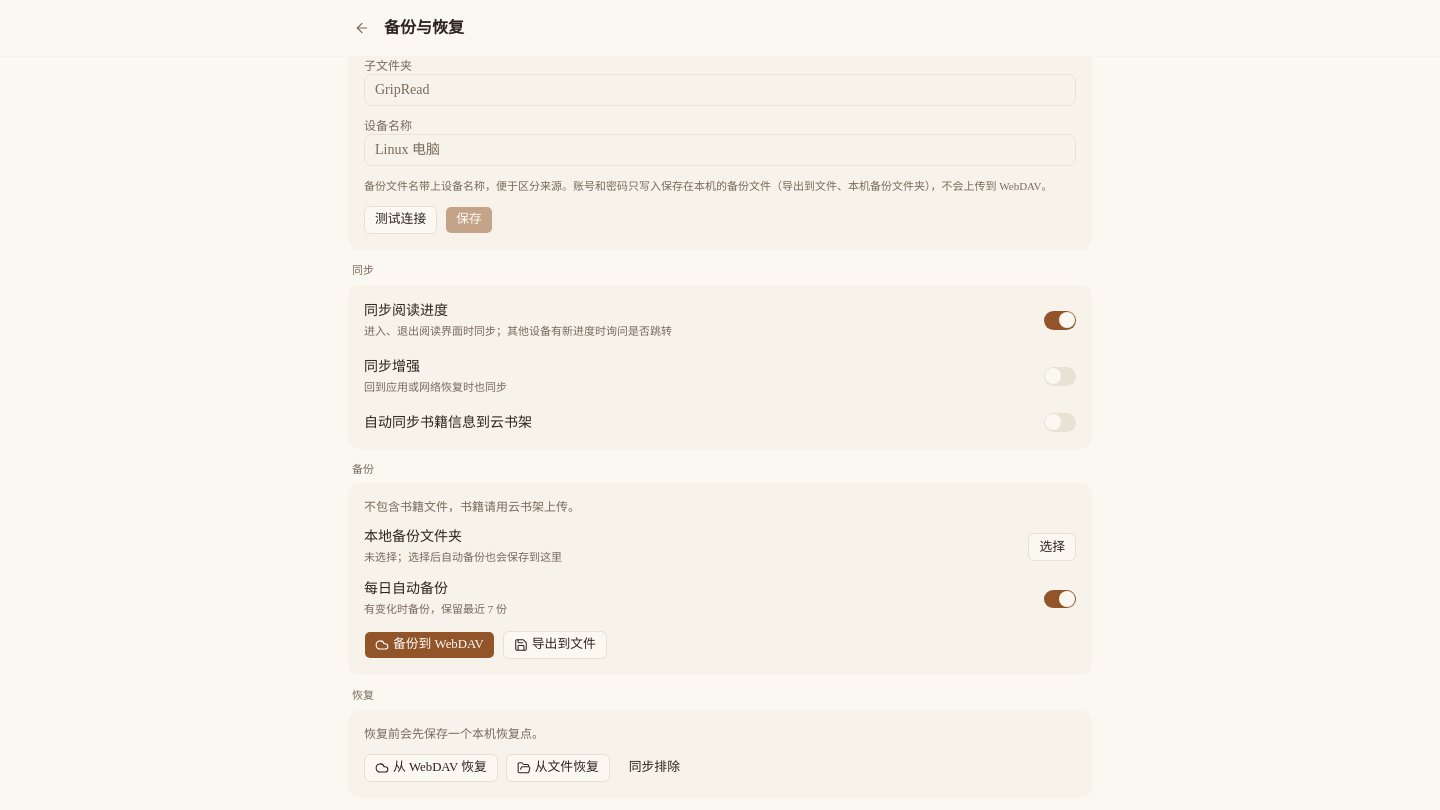
it: backup and the cloud bookshelf › previews a WebDAV backup before restoring it and reports the result
The image size is (1440, 810).
(page scrolled)
Step 1. Click the button "从 WebDAV 恢复" → [431, 768], box [364,754,498,782]
(page scrolled)
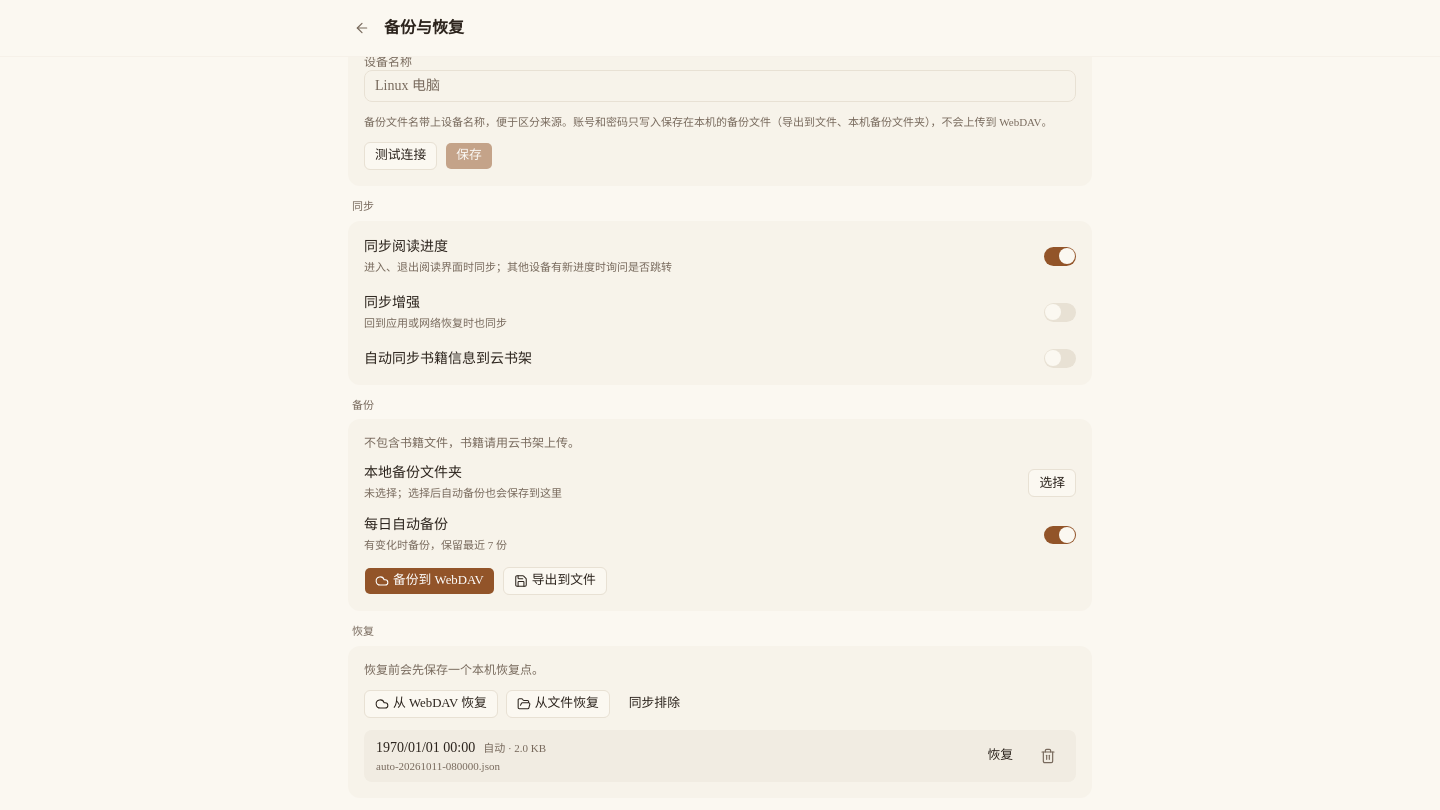
Step 2. Click the button "恢复" → [1000, 756], box [976,742,1024,770]
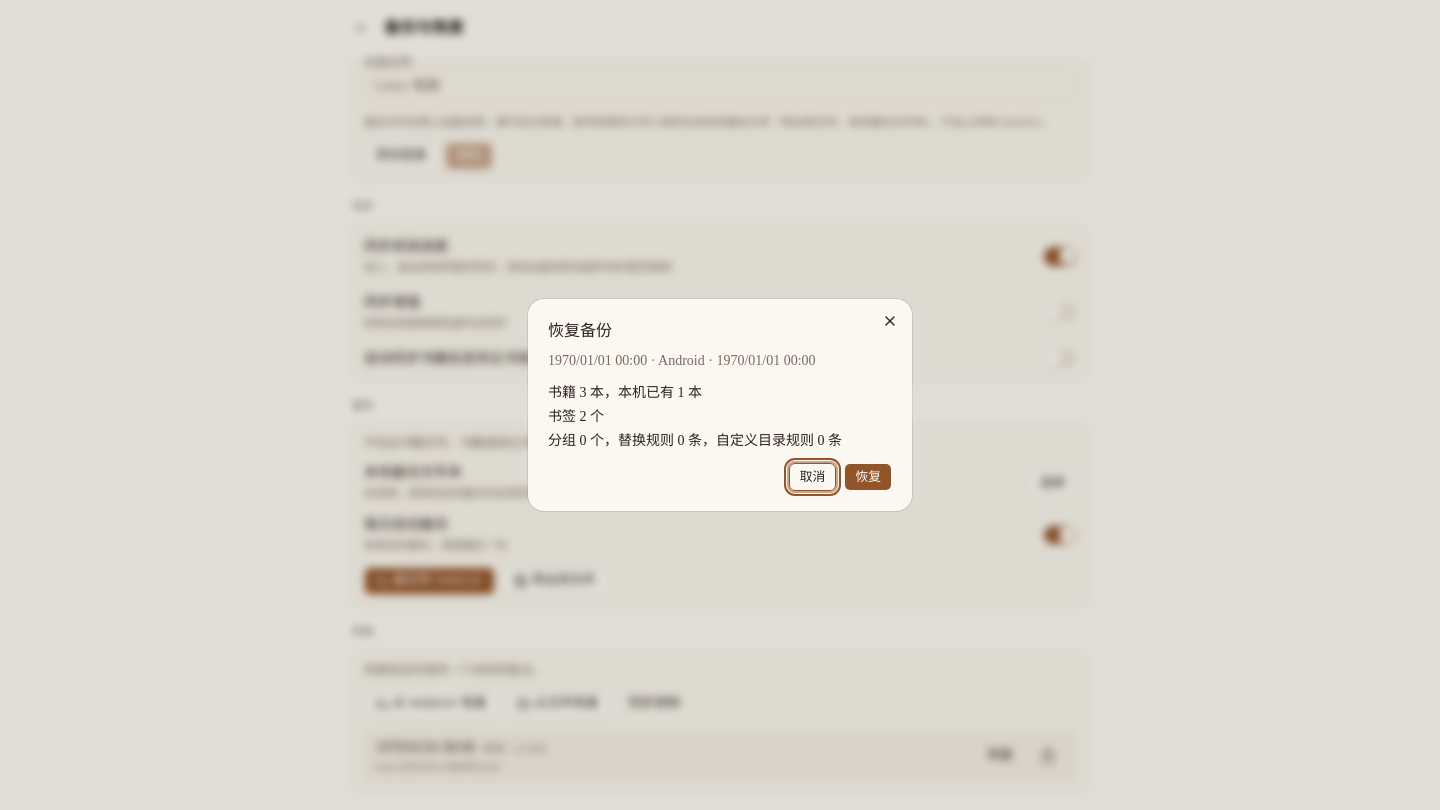
Result: the list item "书籍 3 本，本机已有 1 本" is shown at [548,385,702,400]
Step 3. Click the button "恢复" → [868, 477], box [844,463,892,491]
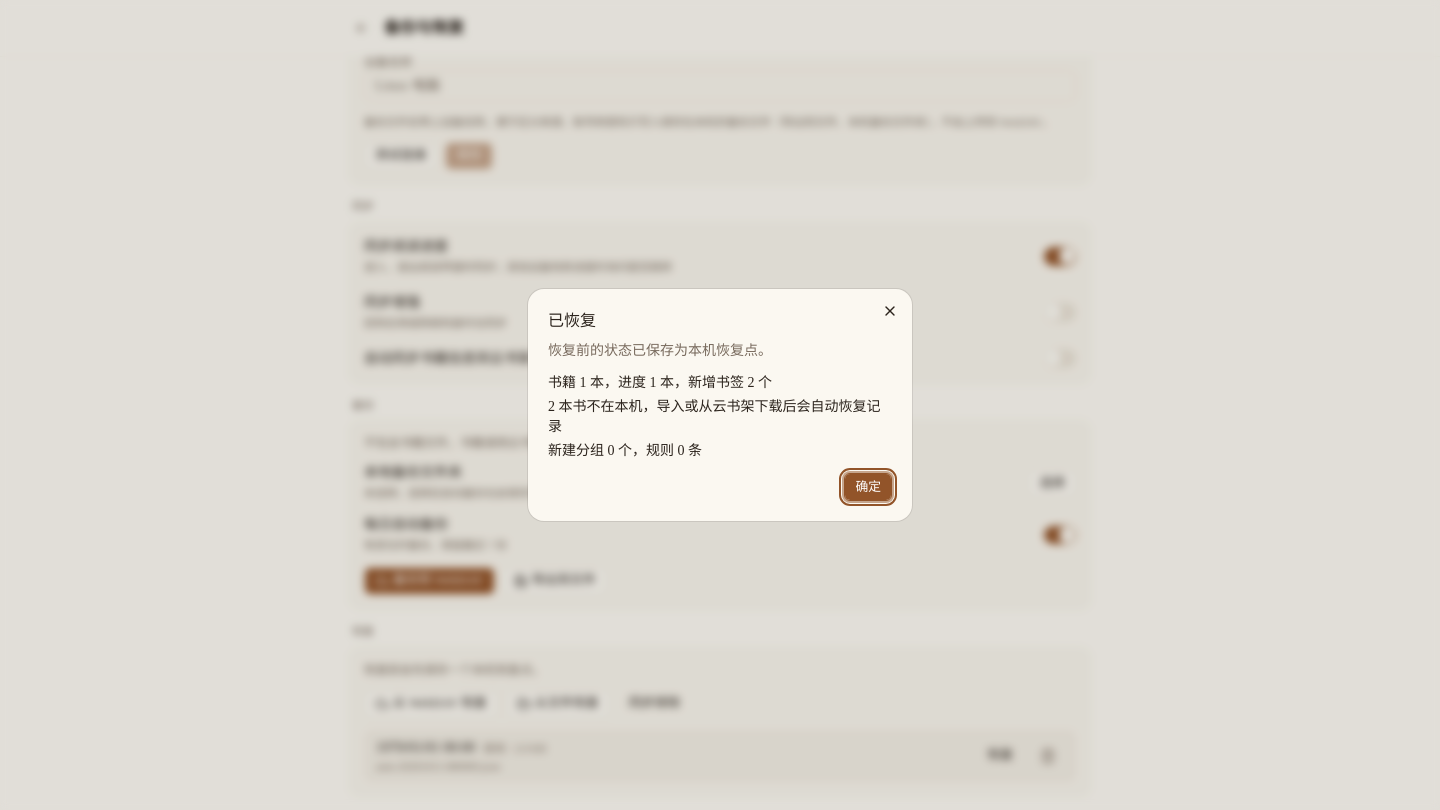
Result: the list item "2 本书不在本机，导入或从云书架下载后会自动恢复记录" is shown at [548,397,892,437]
